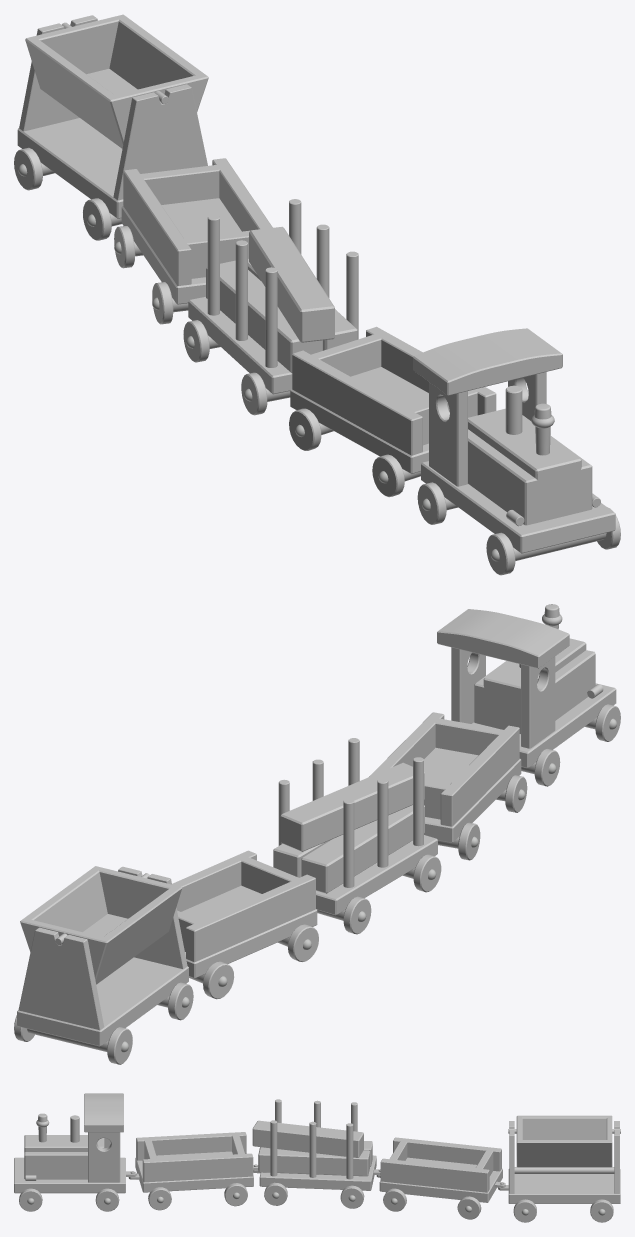
Rendered from WoodenTrainToy.fbx.
3 views of the same model, one above another, from view 1: azimuth 30°, elevation 25°; view 2: azimuth 150°, elevation 25°; view 3: azimuth 270°, elevation 25° (orthographic). The views are drawn at different scales.
Visible parts, largest first — view 1: WoodenTrainToy; view 2: WoodenTrainToy; view 3: WoodenTrainToy.
Part boxes in pixels (x1,y1,x2,y2): WoodenTrainToy: (14,14,620,575); WoodenTrainToy: (14,604,620,1064); WoodenTrainToy: (14,1093,620,1222).
Size of the model in its own units: 16.44 by 13.72 by 83.8.
